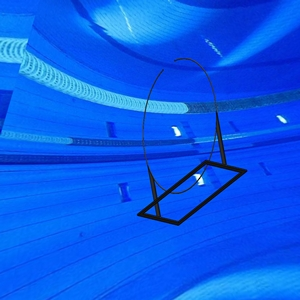circle: (136, 56, 248, 227)
